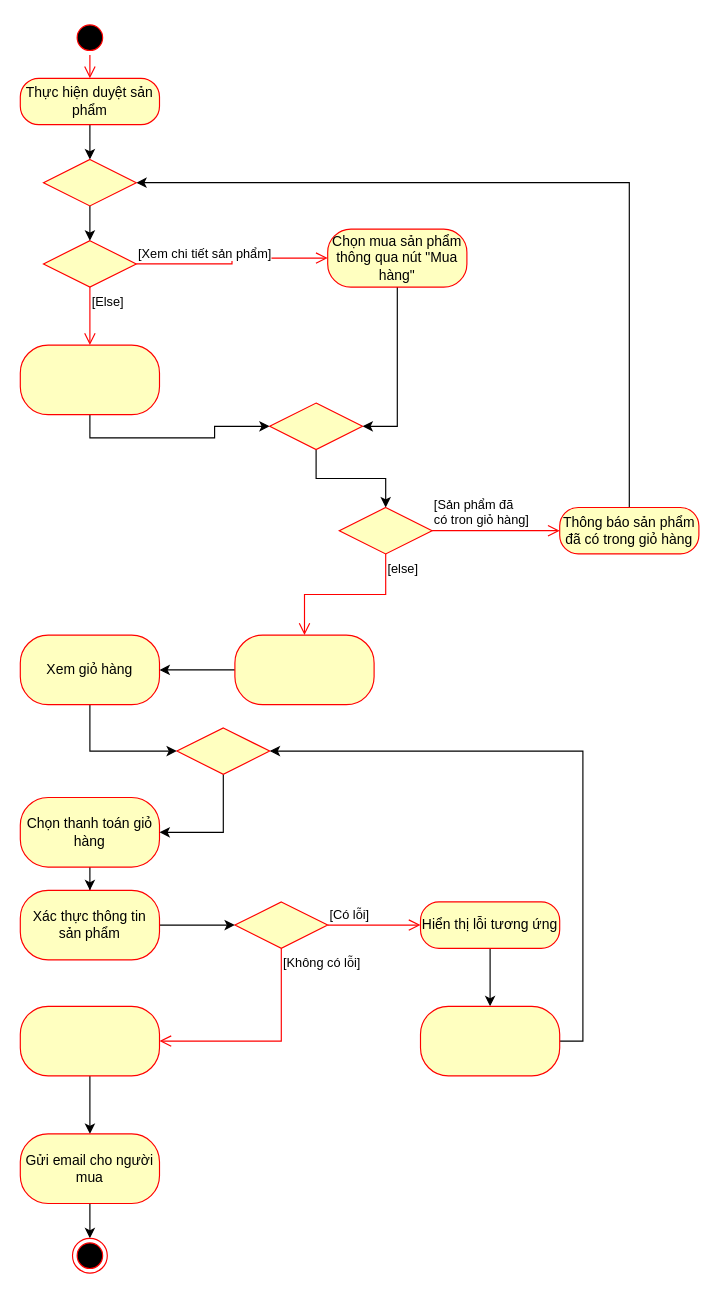
The diagram is 719 pixels wide and 1293 high, and some of its shapes have lost their labels. Each missing label, with the box of its shape:
Chọn mua các sản phẩm thông qua nút "Mua hàng": (19, 344, 160, 415)
Cập nhật lại giỏ hàng: (234, 634, 374, 705)
Xóa các sản phẩm gây ra lỗi: (419, 1005, 560, 1076)
Xử lý thanh toán: (19, 1005, 160, 1076)
